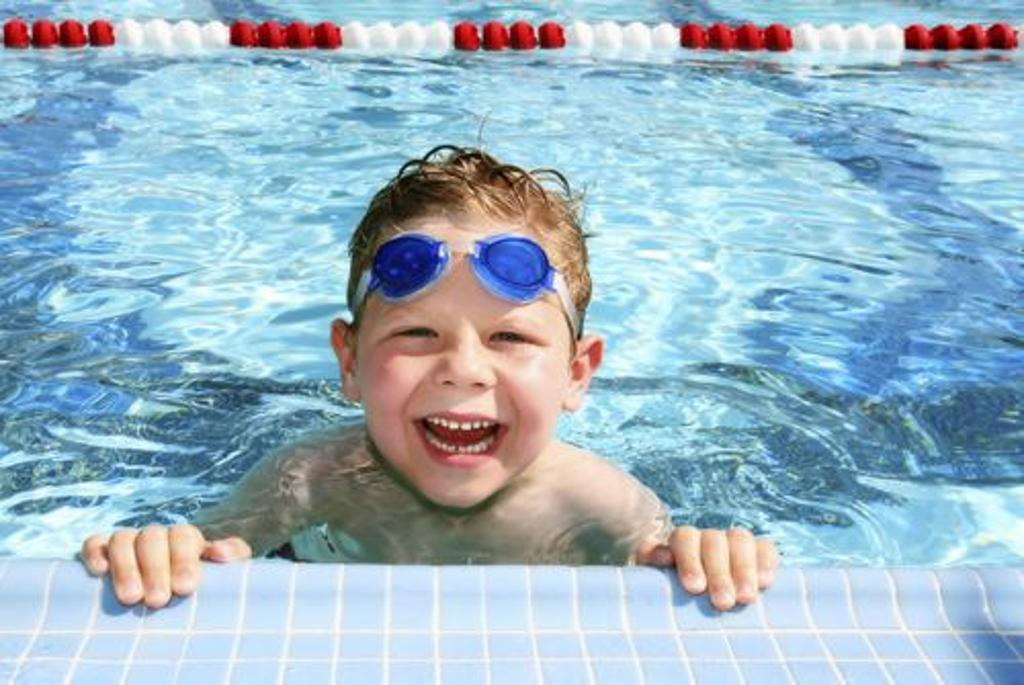face: (362, 236, 566, 508)
